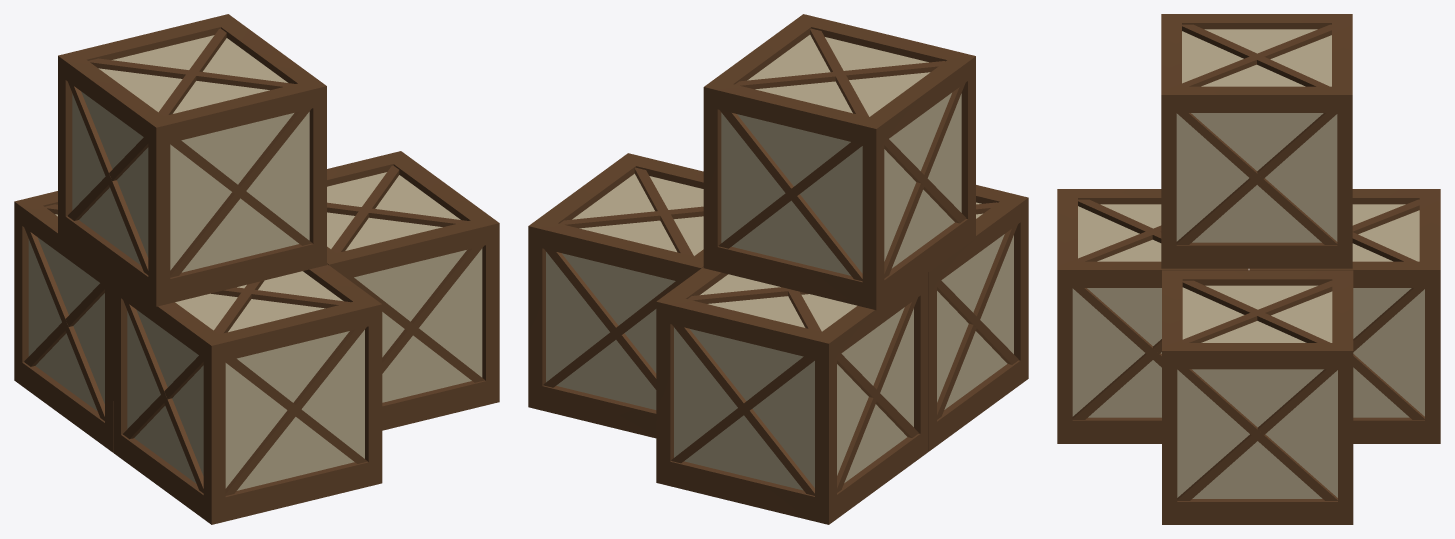
Rendered from Wooden-box_002.fbx.
3 views of the same model, side by side, from view 1: azimuth 30°, elevation 25°; view 2: azimuth 150°, elevation 25°; view 3: azimuth 270°, elevation 25° (orthographic). The views are drawn at different scales.
Visible parts, largest first — view 1: Wooden-box; view 2: Wooden-box; view 3: Wooden-box.
Part boxes in pixels (x1,y1,x2,y2): Wooden-box: (14, 14, 499, 524); Wooden-box: (528, 14, 1028, 524); Wooden-box: (1057, 14, 1440, 524).
Size of the model in its own units: 4.52 by 4.51 by 4.5.
